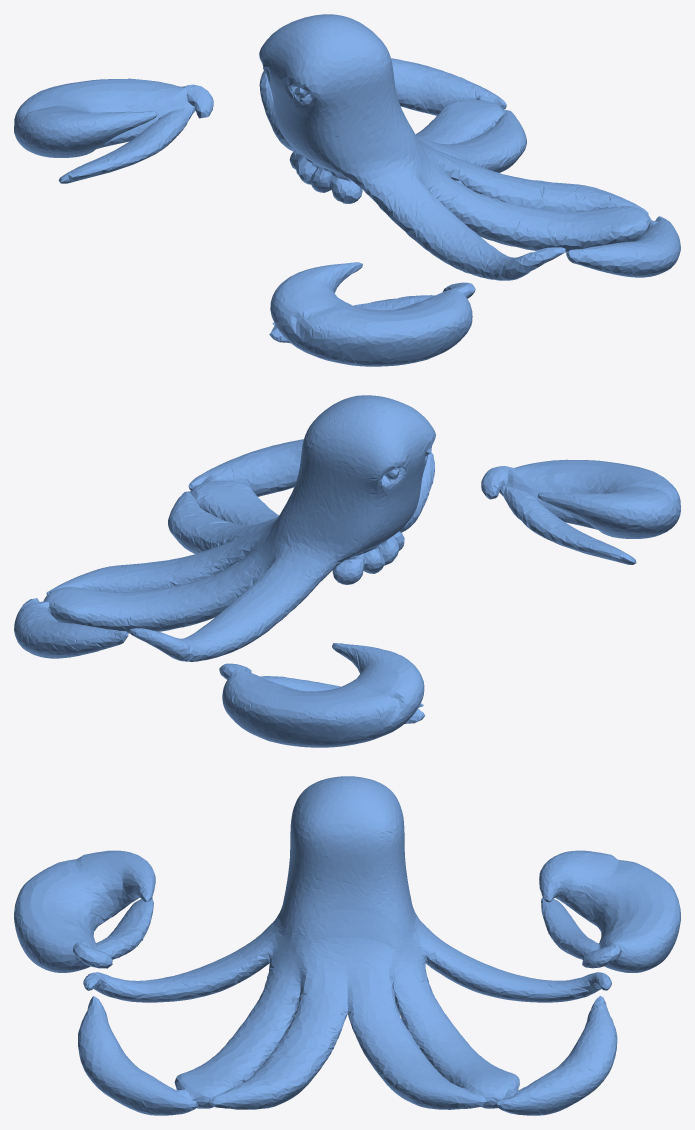
The model's file is animated_mesh.glb.
The picture shows the model from 3 angles, top to bottom: view 1: azimuth 30°, elevation 25°; view 2: azimuth 150°, elevation 25°; view 3: azimuth 270°, elevation 25°; orthographic projection. The views are drawn at different scales.
Parts seen in each view (by area): view 1: AnimatedMesh; view 2: AnimatedMesh; view 3: AnimatedMesh.
Part boxes in pixels (x1,y1,x2,y2): AnimatedMesh: (14, 14, 680, 366); AnimatedMesh: (14, 395, 680, 747); AnimatedMesh: (14, 776, 680, 1115).
Size of the model in its own units: 0.9646 by 0.4789 by 1.31.
